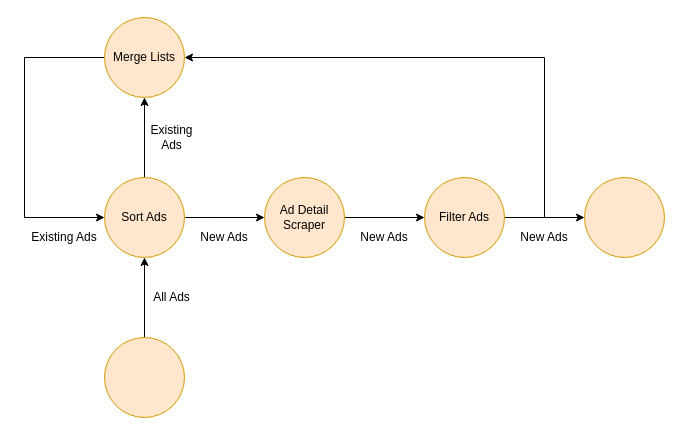
Some shapes in this 682 by 435 pixel diagram are drawn without their labels. Here are the shapes that lost their labels. From the top down, the box of each, then its label:
(584, 176, 664, 258): Send Ad Notification
(104, 336, 184, 418): Ad Overview Scraper
